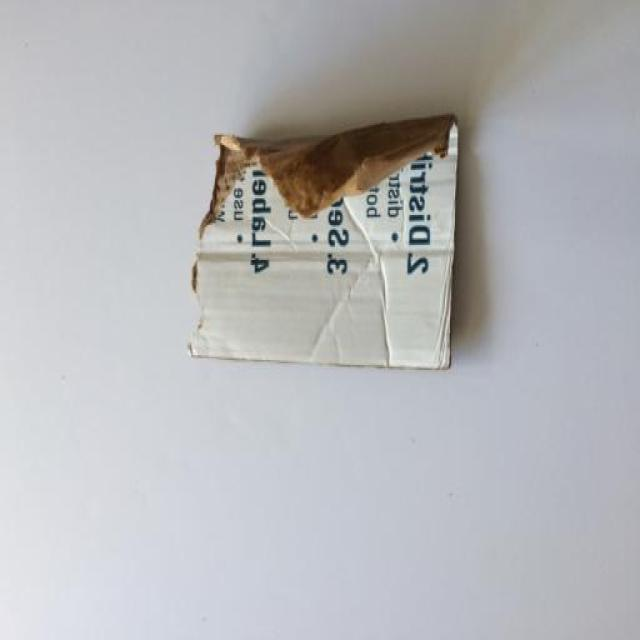cardboard: (186, 113, 461, 372)
